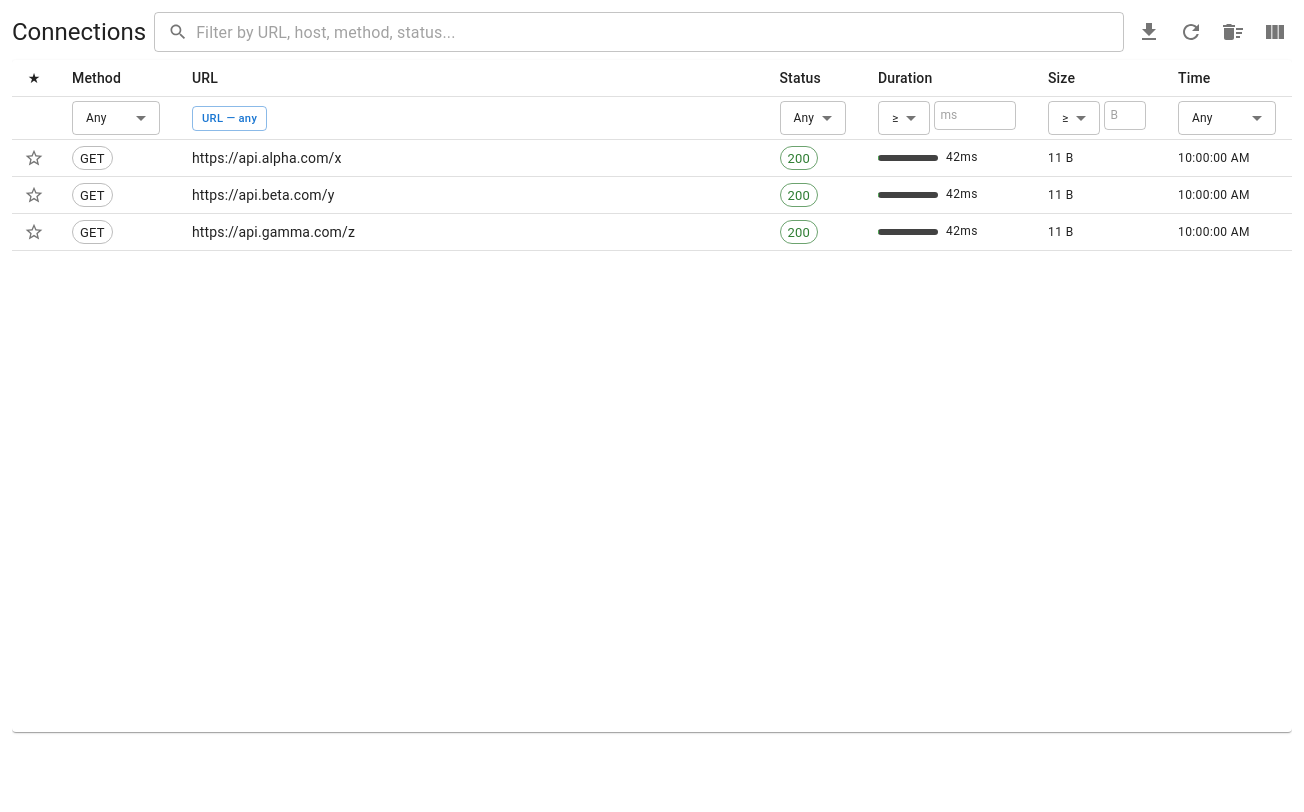
Connections workflow — integration › renders rows, applies a filter, then clears all
The width and height of the screenshot is (1304, 812).
Expected: the text "https://api.alpha.com/x" is shown, [176,140,764,177]
Expected: the text "https://api.beta.com/y" is shown, [176,177,764,214]
Filter narrows to one row.
Type "beta" into the field with placeholder "Filter by URL, host, method, status..." at (660, 32), box [196,12,1124,52]
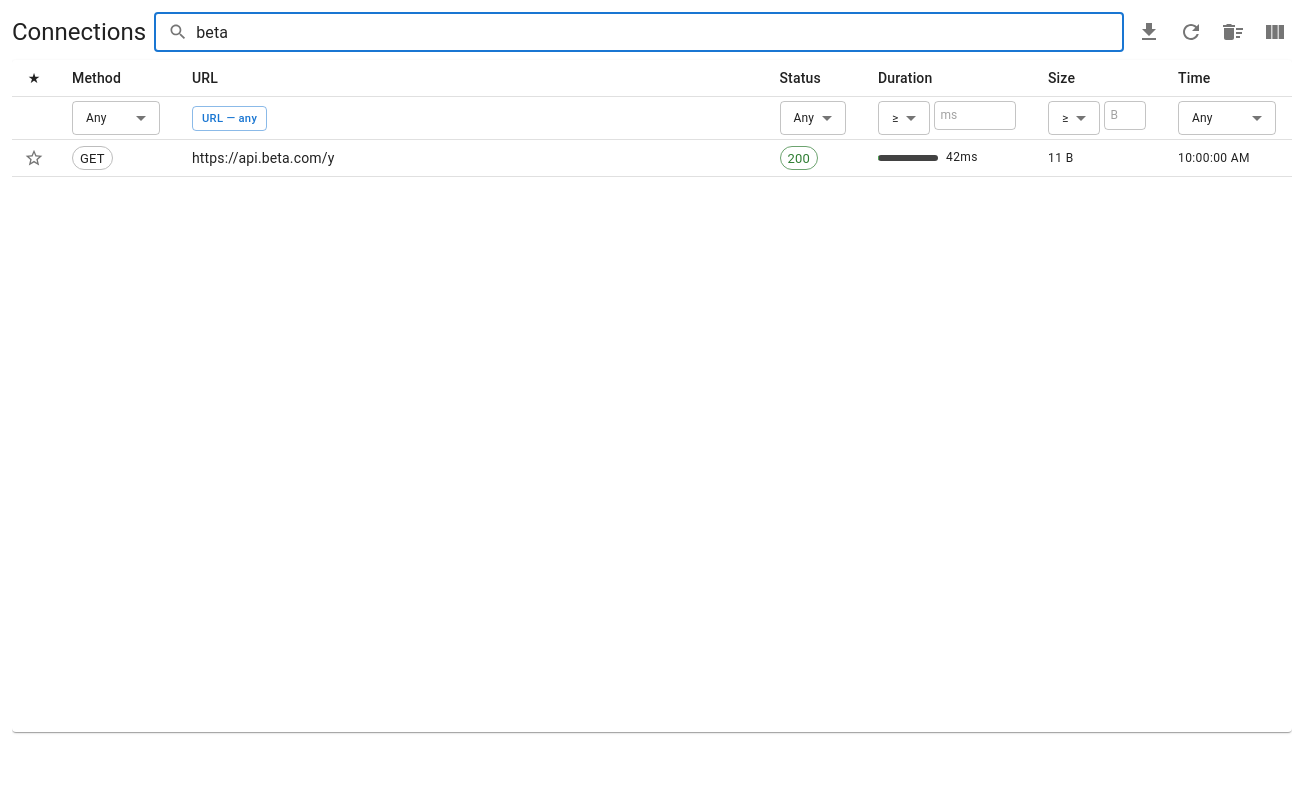
Expected: the text "https://api.beta.com/y" is shown, [176,140,764,177]
Expected: the text "https://api.alpha.com/x" is gone
Expected: the text "https://api.gamma.com/z" is gone
Clear input → all three back.
Clear the field with placeholder "Filter by URL, host, method, status..." at (660, 32), box [196,12,1124,52]
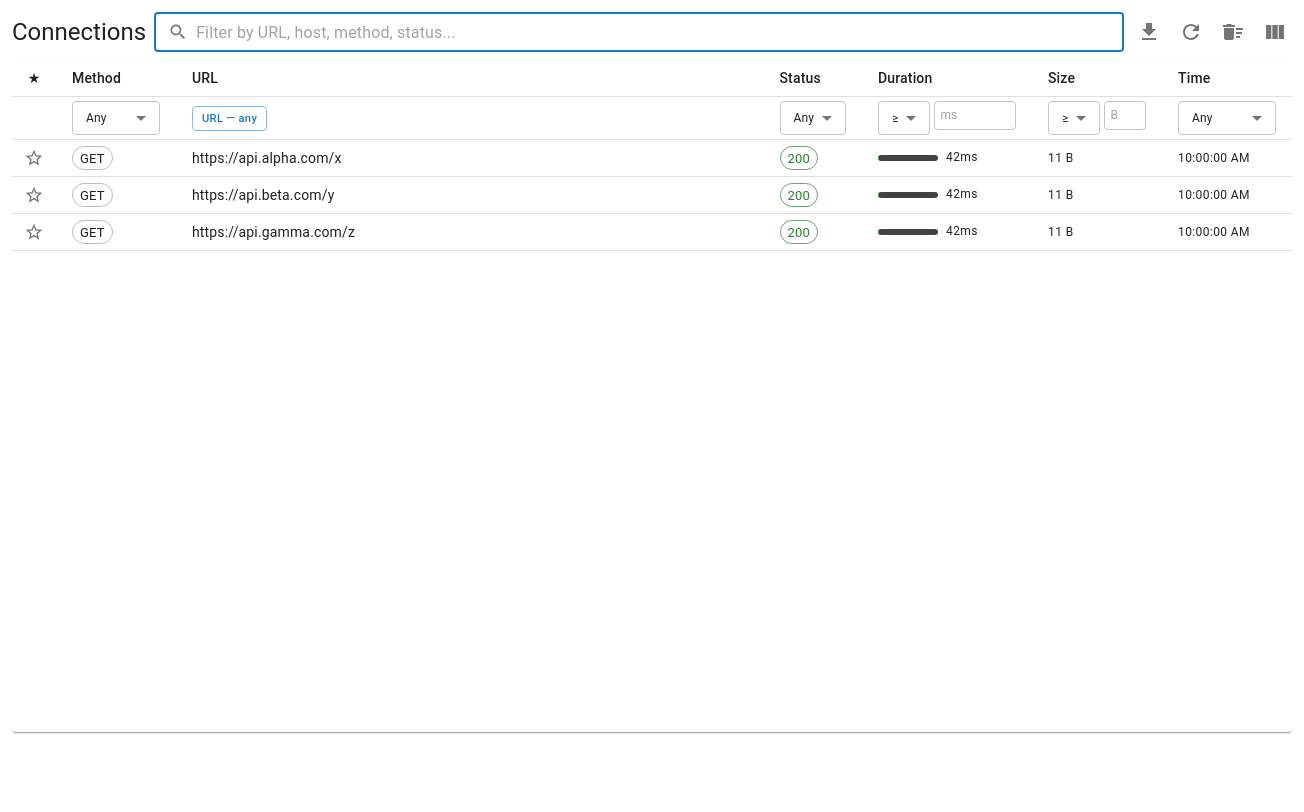
Expected: the text "https://api.alpha.com/x" is shown, [176,140,764,177]
Expected: the text "https://api.gamma.com/z" is shown, [176,214,764,251]
Clear-all wipes the table.
Click the button named "Clear all" at (1233, 32), box [1216,15,1250,49]
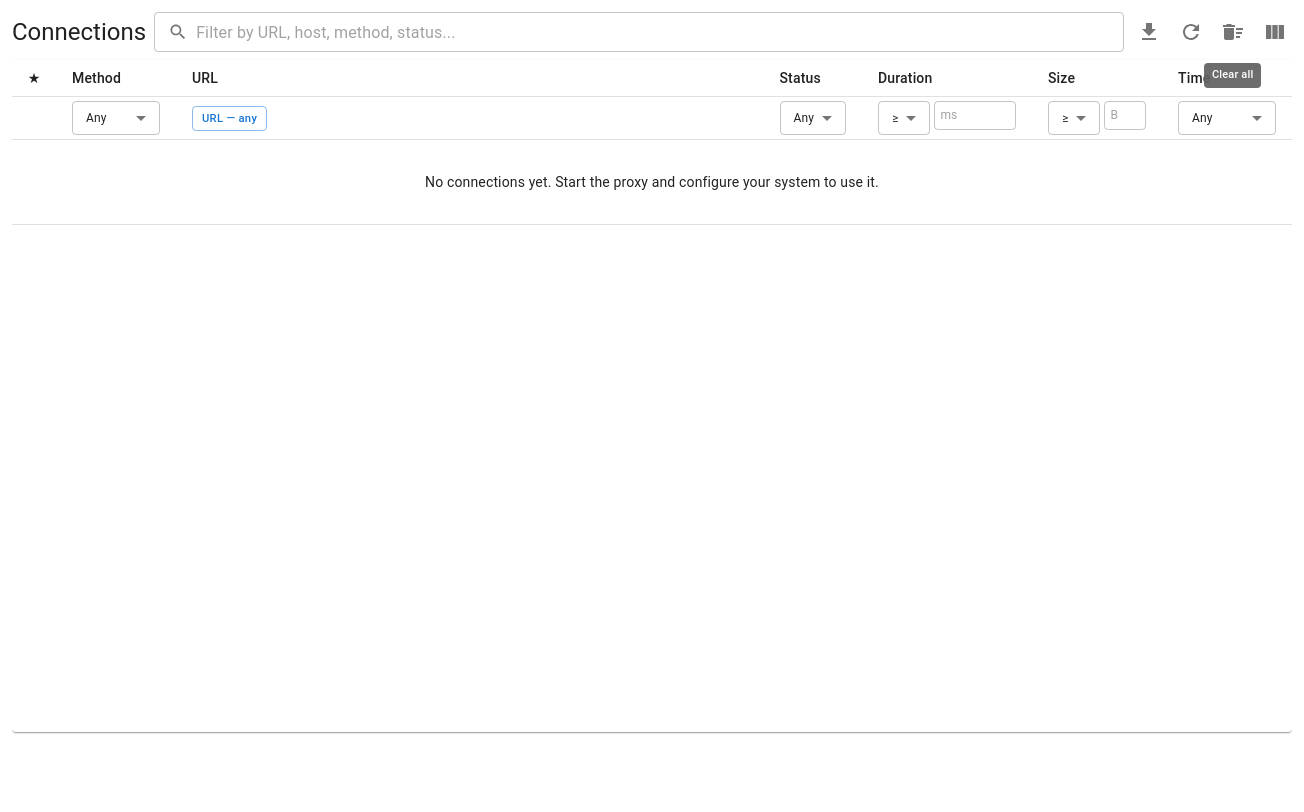
Expected: the text "https://api.alpha.com/x" is gone
Expected: the text "No connections yet" is shown, [425,174,879,190]
